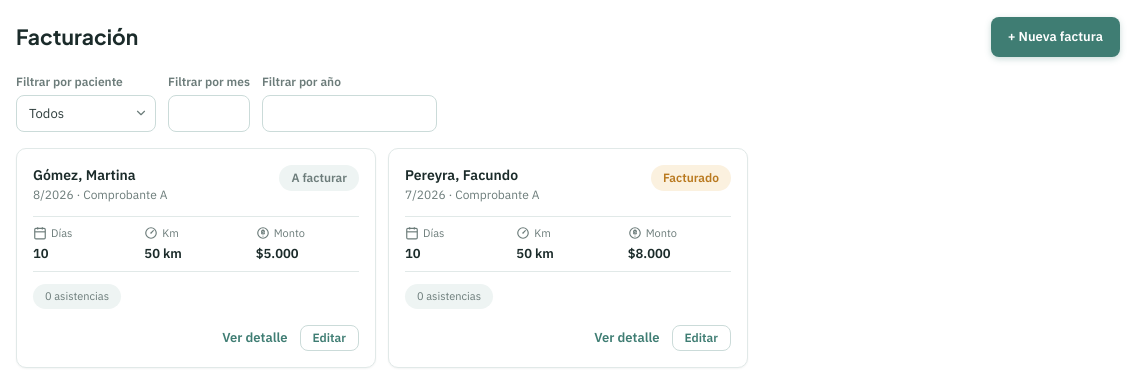
Test case: FacturasList › filtra por paciente
The image size is (1140, 385).
Select "Pereyra, Facundo" in the dropdown labelled "Filtrar por paciente" at (86, 113), box [16, 94, 156, 132]
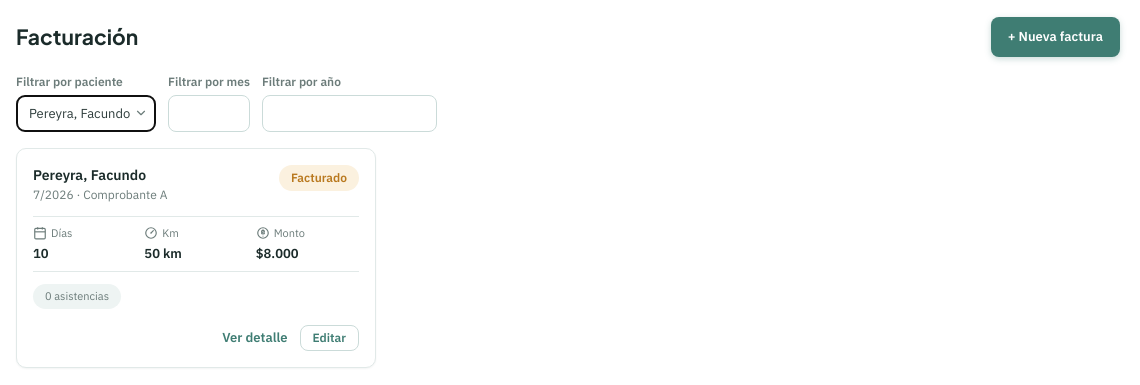
Expected: the text "Pereyra, Facundo" is shown, [33, 166, 146, 184]
Expected: the text "Gómez, Martina" is gone
